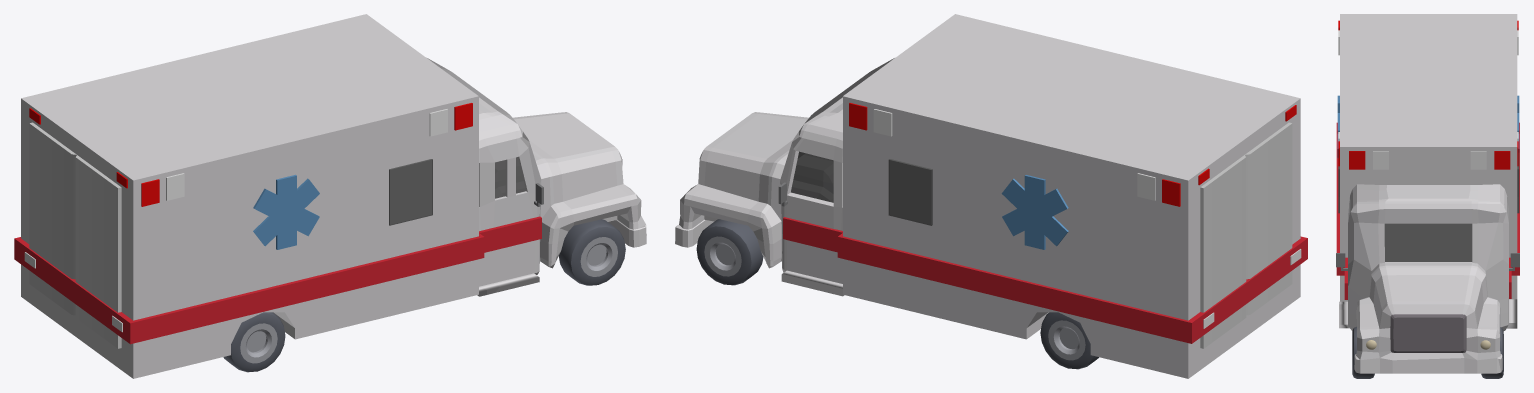
File: ambulance.fbx
3 views of the same model, side by side, from view 1: azimuth 30°, elevation 25°; view 2: azimuth 150°, elevation 25°; view 3: azimuth 270°, elevation 25° (orthographic). The views are drawn at different scales.
Visible parts, largest first — view 1: polySurface101, pCube97, pCube96, polySurface8, pCube87, polySurface98, polySurface10, pCube81, pCube74; view 2: polySurface101, pCube97, pCube96, polySurface98, polySurface8, pCube87, polySurface10, pCube81, pCube74; view 3: polySurface101, polySurface98, polySurface100, pCube96, pCube74, pCube81, polySurface8, pCube106, pCube87, polySurface30.
Boxes of the visible parts, <box> form: polySurface101: <box>21,14,646,378</box>; pCube97: <box>29,122,121,348</box>; pCube96: <box>14,216,541,344</box>; polySurface8: <box>223,219,625,372</box>; pCube87: <box>253,174,319,249</box>; polySurface98: <box>389,157,525,225</box>; polySurface10: <box>240,237,617,363</box>; pCube81: <box>29,108,447,200</box>; pCube74: <box>24,103,472,332</box>; polySurface101: <box>675,14,1300,378</box>; pCube97: <box>1200,122,1292,348</box>; pCube96: <box>783,217,1307,343</box>; polySurface98: <box>791,151,932,225</box>; polySurface8: <box>696,219,1098,369</box>; pCube87: <box>1001,175,1068,249</box>; polySurface10: <box>704,236,1085,360</box>; pCube81: <box>873,105,1296,200</box>; pCube74: <box>849,103,1301,328</box>; polySurface101: <box>1339,14,1517,373</box>; polySurface98: <box>1338,153,1519,261</box>; polySurface100: <box>1390,314,1466,352</box>; pCube96: <box>1336,122,1519,299</box>; pCube74: <box>1338,20,1518,169</box>; pCube81: <box>1338,30,1518,169</box>; polySurface8: <box>1352,326,1503,378</box>; pCube106: <box>1336,253,1519,270</box>; pCube87: <box>1337,95,1519,157</box>; polySurface30: <box>1366,340,1490,349</box>.
Size of the model in its own units: 76.16 by 28.85 by 31.19.
